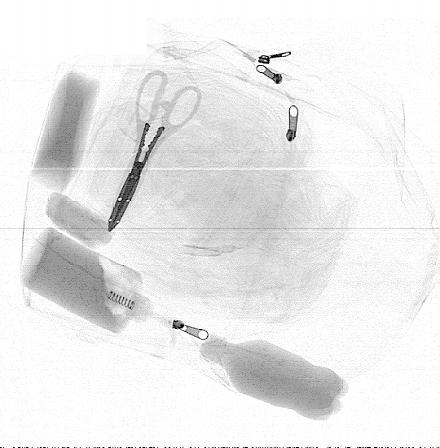Scissors: (106, 69, 203, 233)
